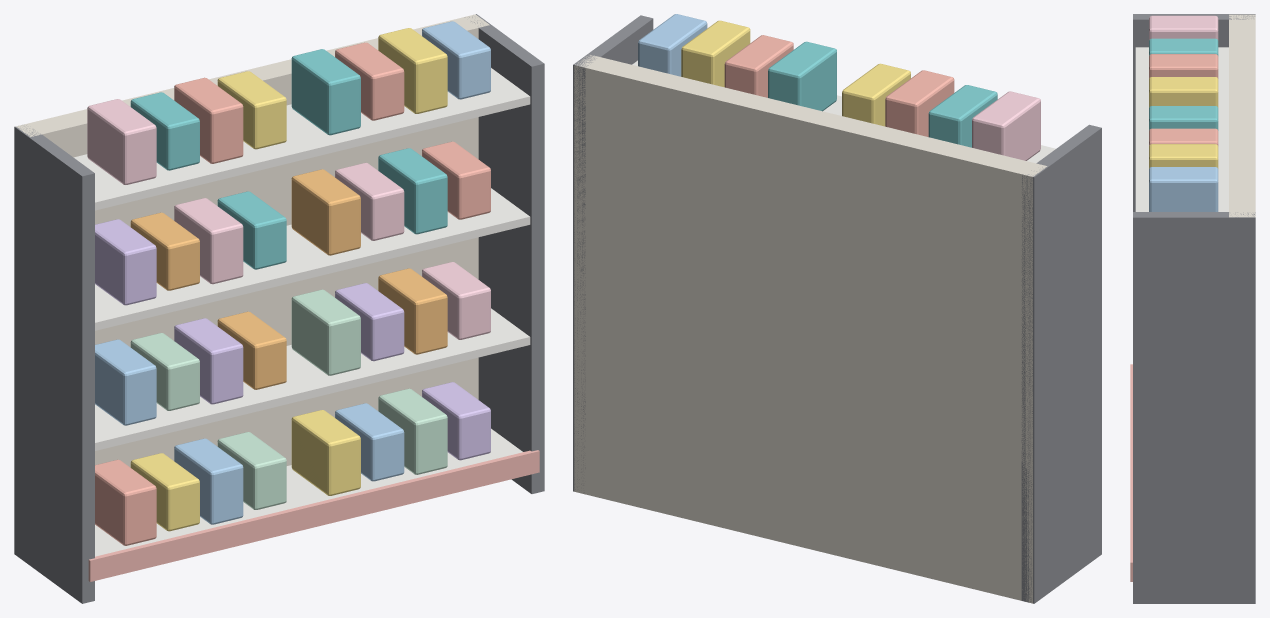
File: estante_mercado.glb
3 views of the same model, side by side, from view 1: azimuth 30°, elevation 25°; view 2: azimuth 150°, elevation 25°; view 3: azimuth 270°, elevation 25° (orthographic). The views are drawn at different scales.
Visible parts, largest first — view 1: estante_mercado, Stock_6, Stock_7, Stock_8, Stock_2, Stock_4, Stock_5, Stock_1, Stock_3; view 2: estante_mercado, Stock_7, Stock_8; view 3: estante_mercado, Stock_8, Stock_7.
Boxes of the visible parts, box(x1,y1,x2,y2) form: estante_mercado: box(14, 14, 544, 603); Stock_6: box(291, 141, 490, 255); Stock_7: box(87, 71, 286, 184); Stock_8: box(291, 21, 490, 135); Stock_2: box(291, 382, 490, 495); Stock_4: box(291, 262, 490, 375); Stock_5: box(95, 191, 286, 305); Stock_1: box(95, 432, 286, 545); Stock_3: box(95, 311, 286, 425); estante_mercado: box(573, 15, 1101, 603); Stock_7: box(842, 63, 1040, 160); Stock_8: box(638, 14, 836, 111); estante_mercado: box(1130, 14, 1255, 603); Stock_8: box(1149, 106, 1218, 211); Stock_7: box(1149, 15, 1218, 107).
Bounding box in the file's own units: 1.81 × 1.69 × 0.47.
